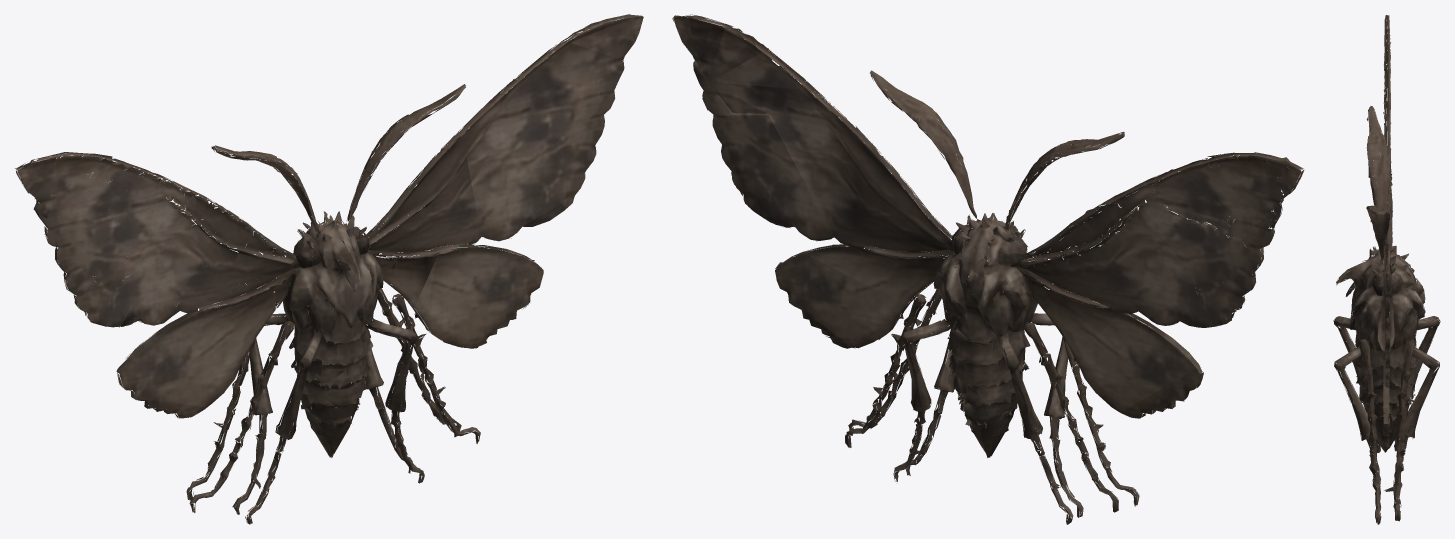
The model's file is cha_moth.glb.
3 views of the same model, side by side, from view 1: azimuth 30°, elevation 25°; view 2: azimuth 150°, elevation 25°; view 3: azimuth 270°, elevation 25° (orthographic). The views are drawn at different scales.
Parts seen in each view (by area): view 1: geometry_0; view 2: geometry_0; view 3: geometry_0.
Boxes of the visible parts, bbox=[...] form: geometry_0: bbox=[15, 14, 643, 524]; geometry_0: bbox=[672, 14, 1304, 524]; geometry_0: bbox=[1333, 15, 1440, 524].
Size of the model in its own units: 1.8 by 1.14 by 0.3156.
Materials: 1 (1 with a texture image).
